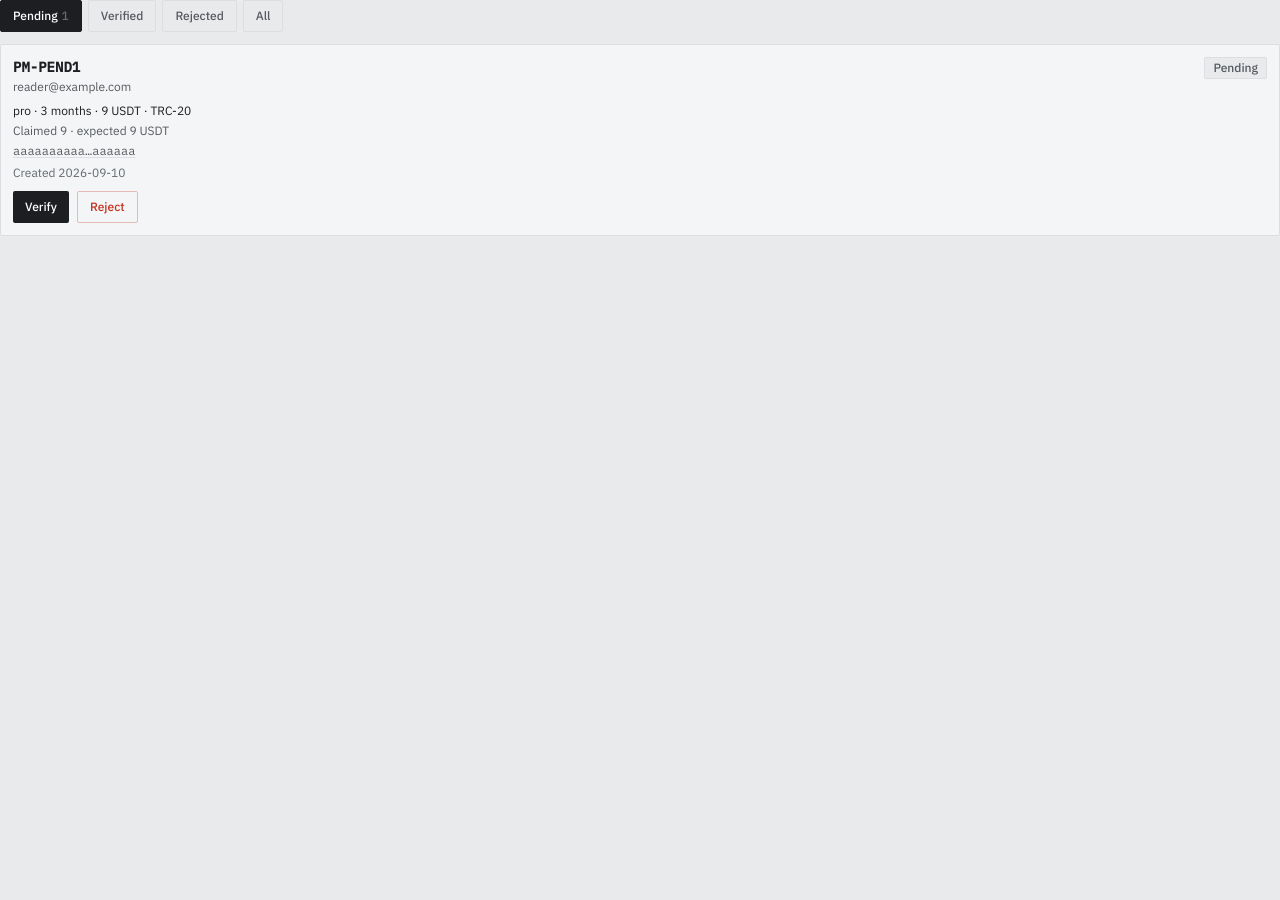
it: rejects from the queue with a reason and refreshes
expect the list item with test id "admin-order-row" is shown: met, box [0, 44, 1279, 236]
Click the button with test id "reject-button": click(107, 207) [77, 191, 138, 223]
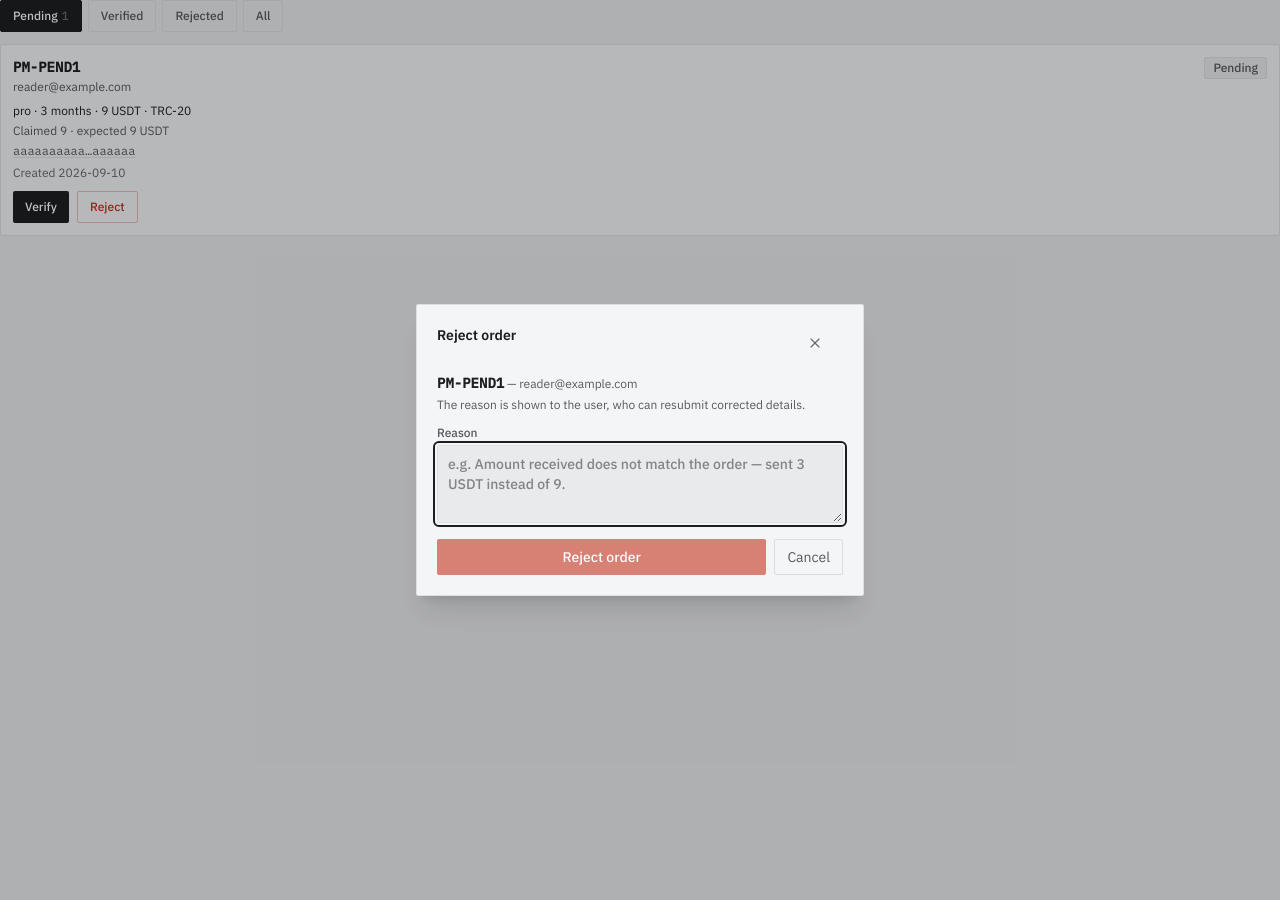
In the text box with test id "reject-reason": (640, 484) [437, 445, 843, 523], type "Wrong amount."
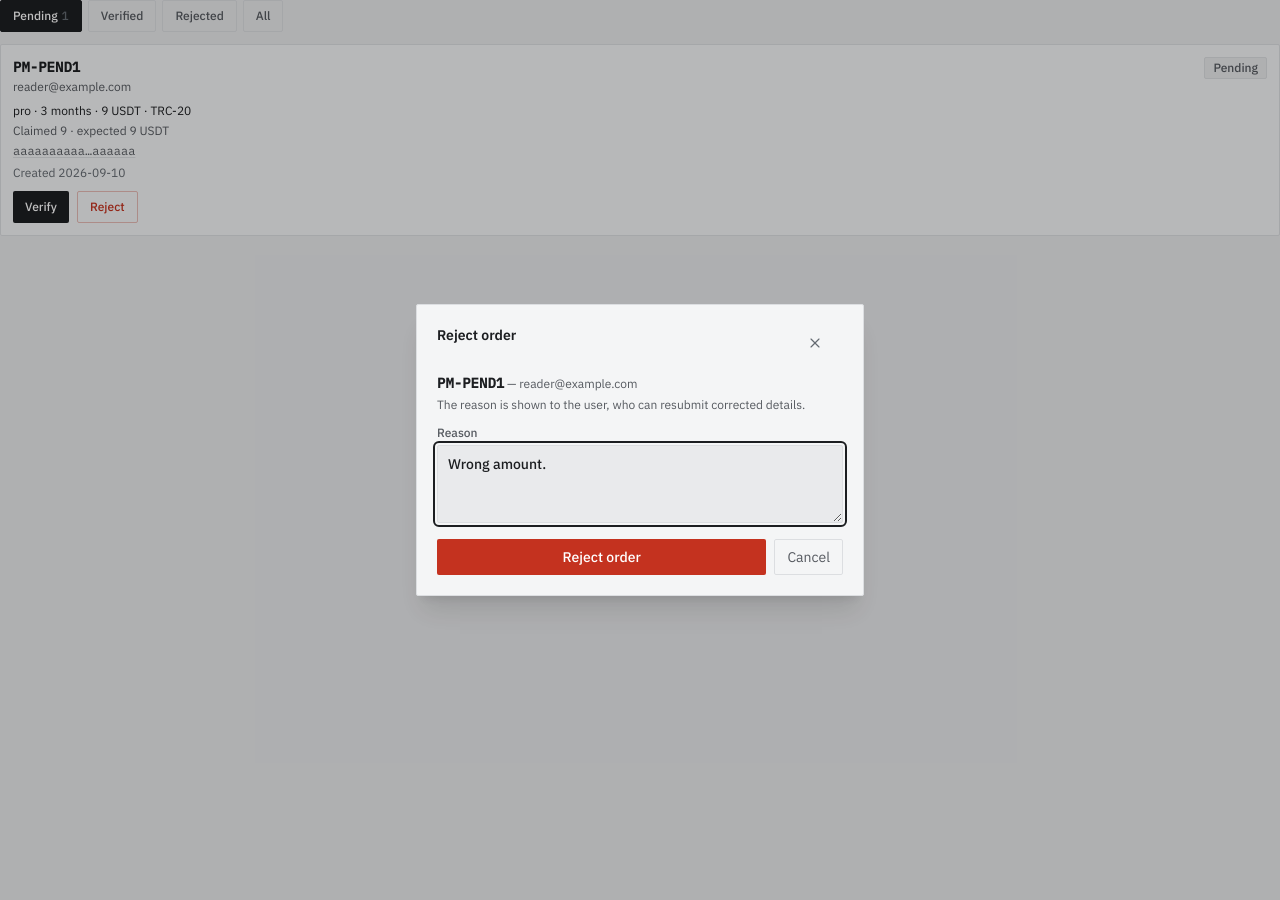
Click the button with test id "confirm-reject": click(602, 557) [437, 539, 766, 575]
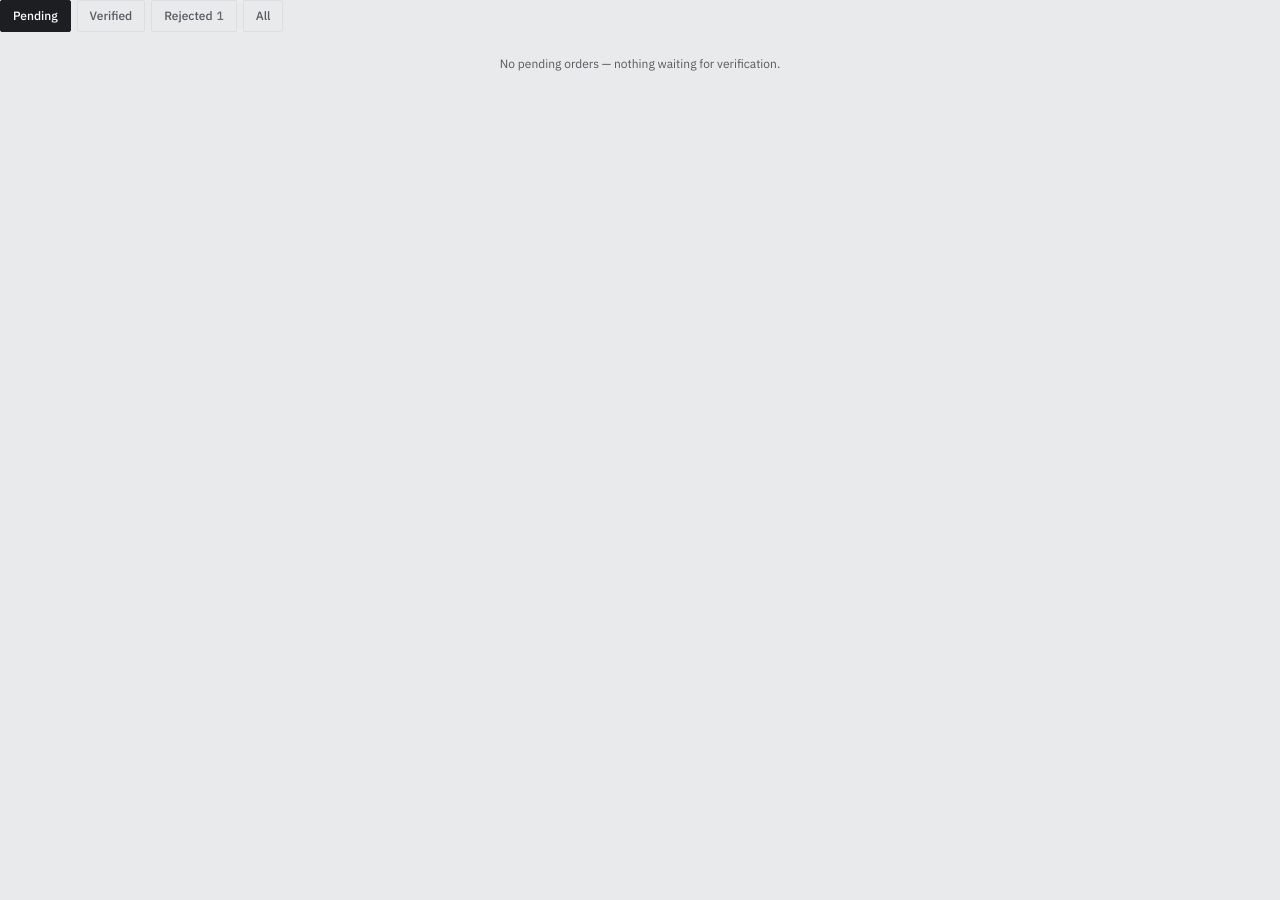
expect the dialog with test id "reject-dialog" is gone: met
Click the button with test id "filter-rejected": click(194, 16) [151, 0, 237, 32]
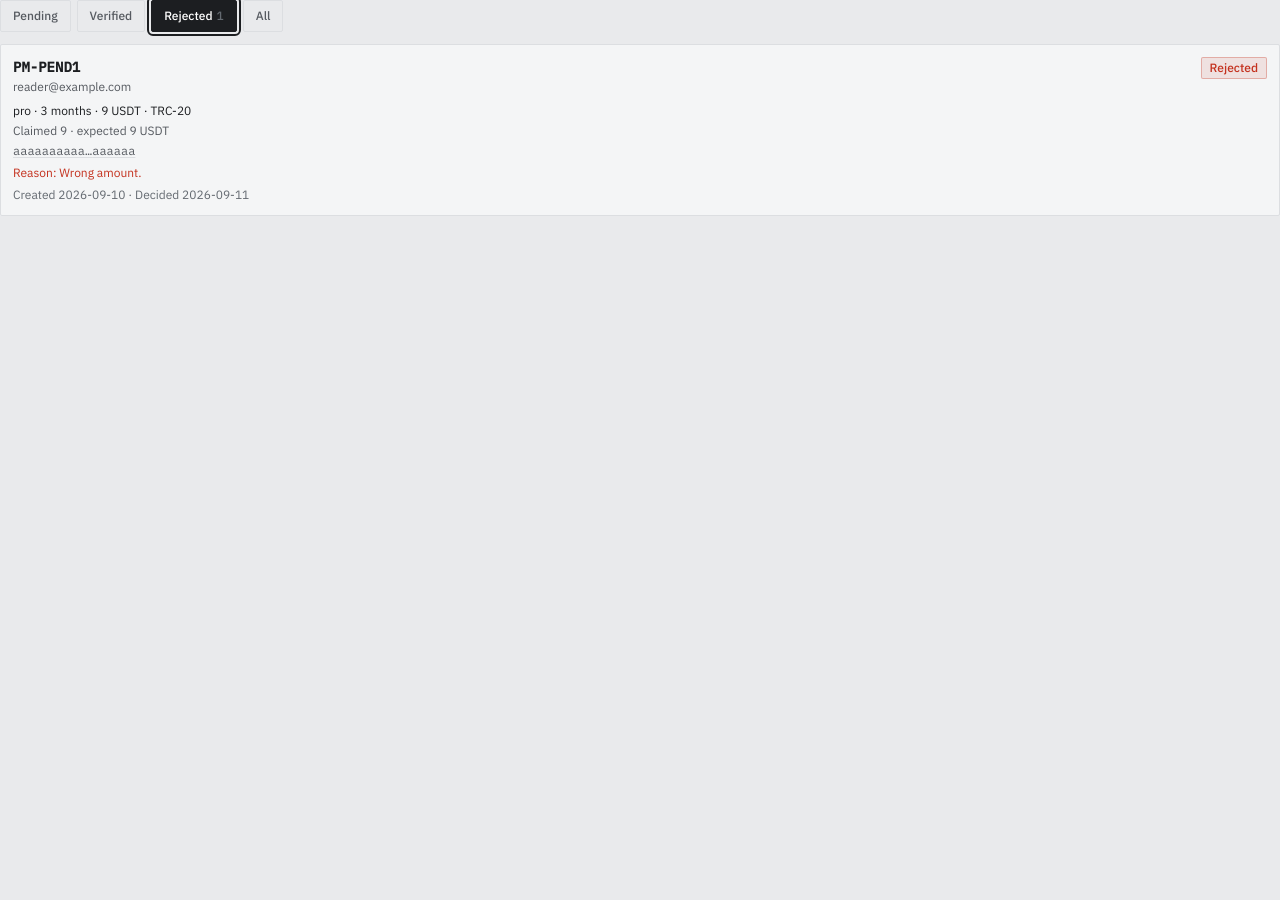
expect the text "Reason: Wrong amount." is shown: met, box [13, 165, 142, 180]
